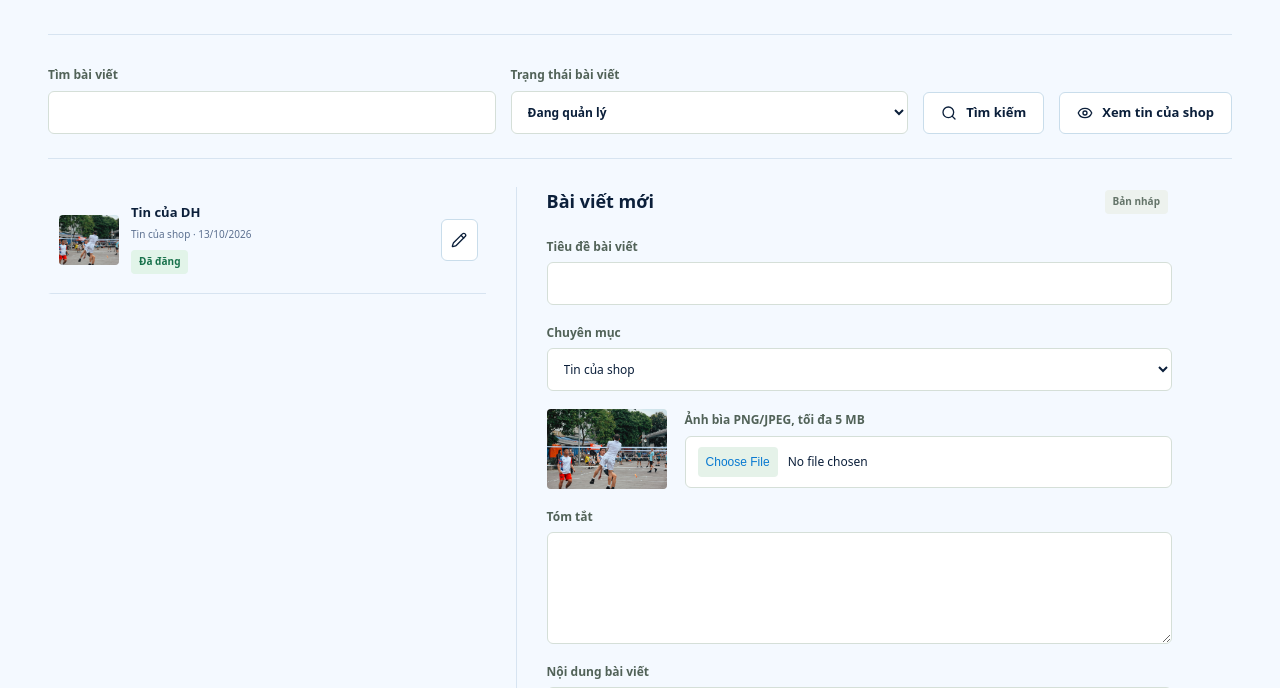
Test: confirms archive and permits restoring an archived post
What coordinates should you click on to do the following:
click the button named "Sửa Tin của DH"
I would click on:
 (459, 240)
Its box is [441,219,478,261].
(page scrolled)
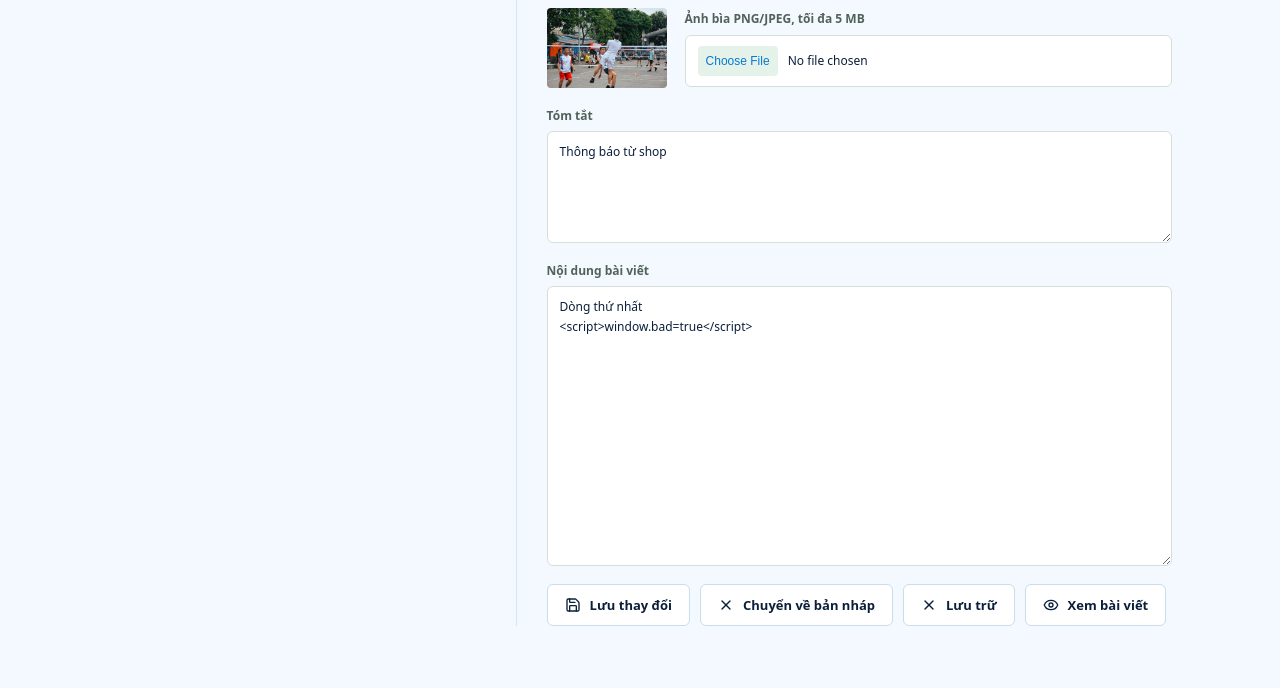
What coordinates should you click on to do the following:
click the button "Lưu trữ"
I would click on:
 (959, 605)
Its box is [903,584,1015,626].
(page scrolled)
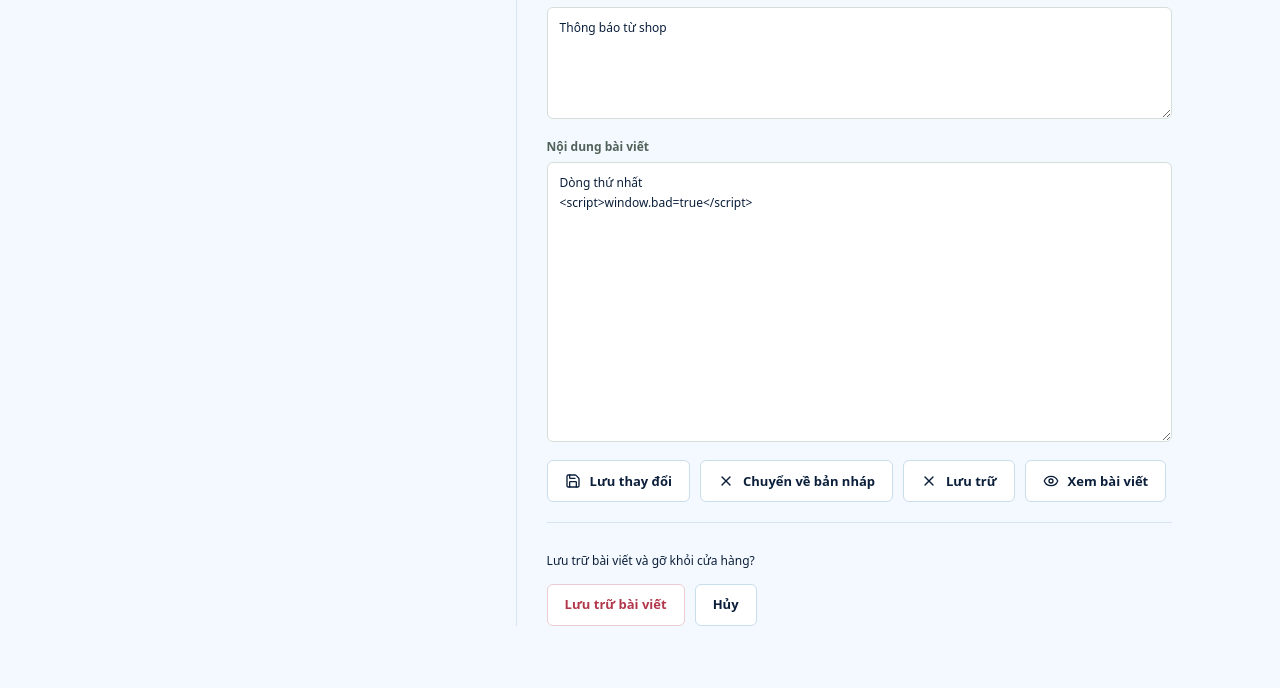
Now the element named "Xác nhận gỡ bài viết" is shown, box [547,522,1172,626]
What coordinates should you click on to do the following:
click the button "Hủy"
I would click on:
 (726, 605)
Its box is [695,584,757,626].
(page scrolled)
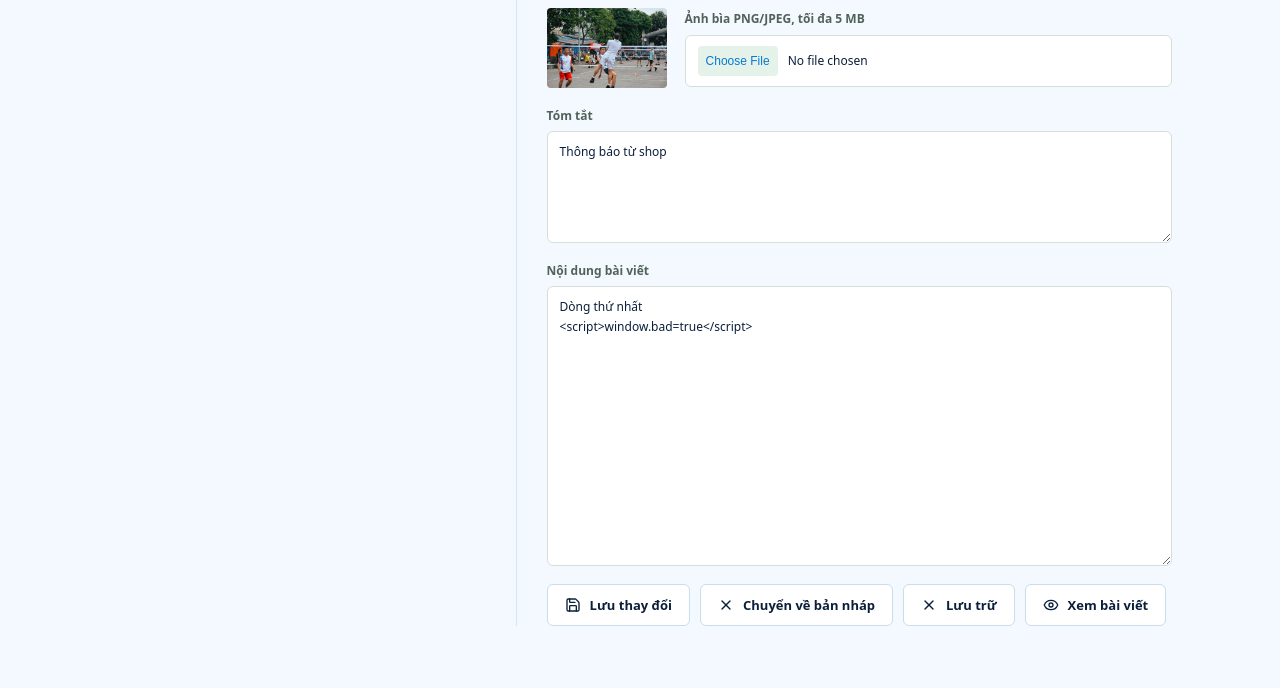
What coordinates should you click on to do the following:
click the button "Lưu trữ"
I would click on:
 (959, 605)
Its box is [903,584,1015,626].
(page scrolled)
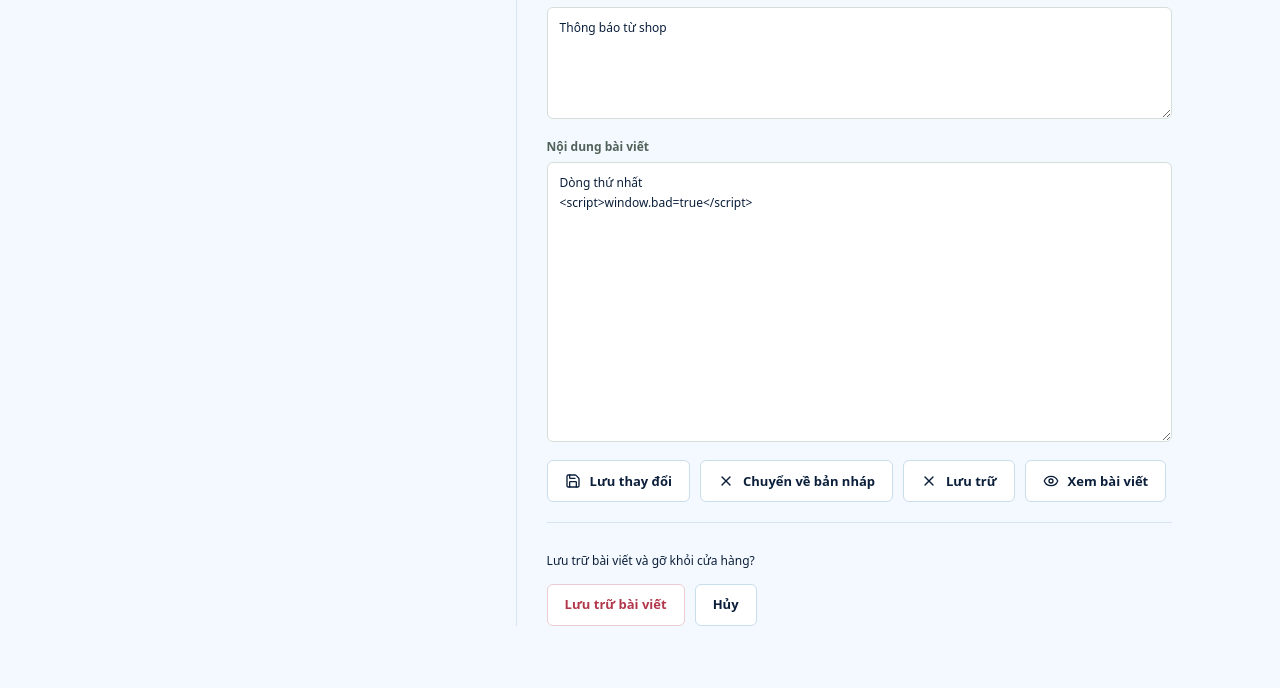
What coordinates should you click on to do the following:
click the button "Lưu trữ bài viết"
I would click on:
 (616, 605)
Its box is [547,584,685,626].
(page scrolled)
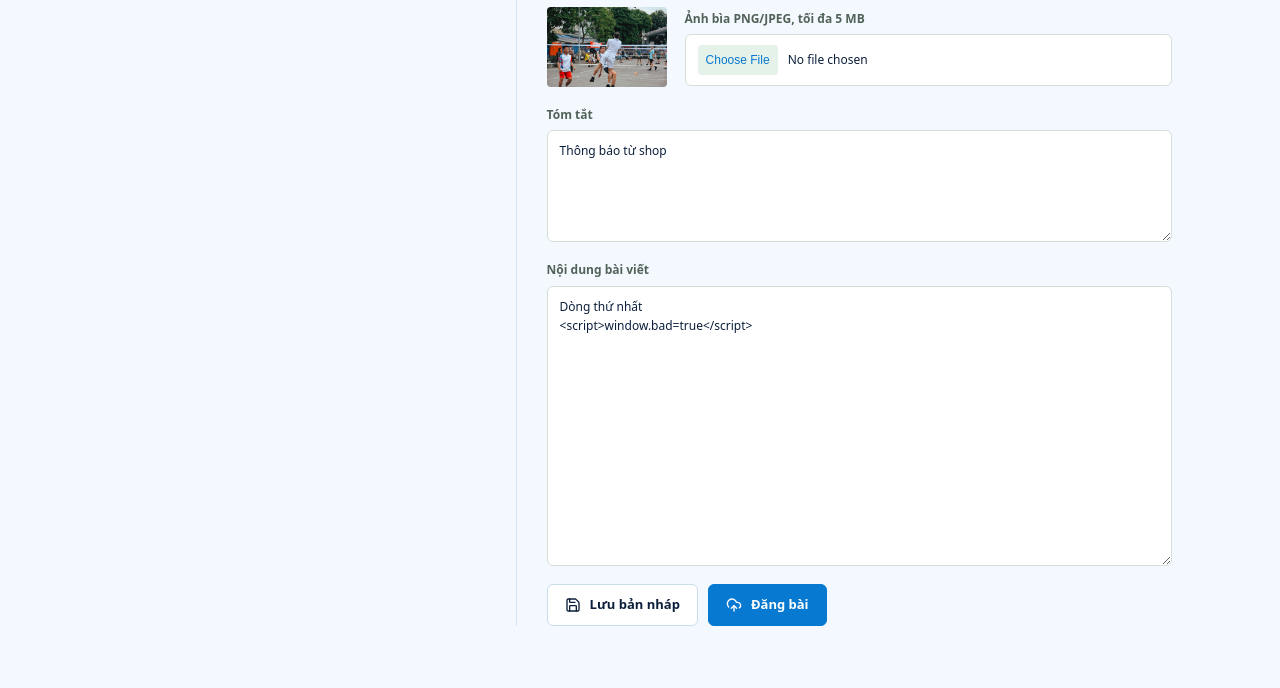
Now the button "Đăng bài" is shown, box [708,584,827,626]
